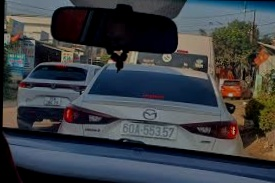Bien-so: (110, 121, 166, 140), (34, 96, 52, 106)
